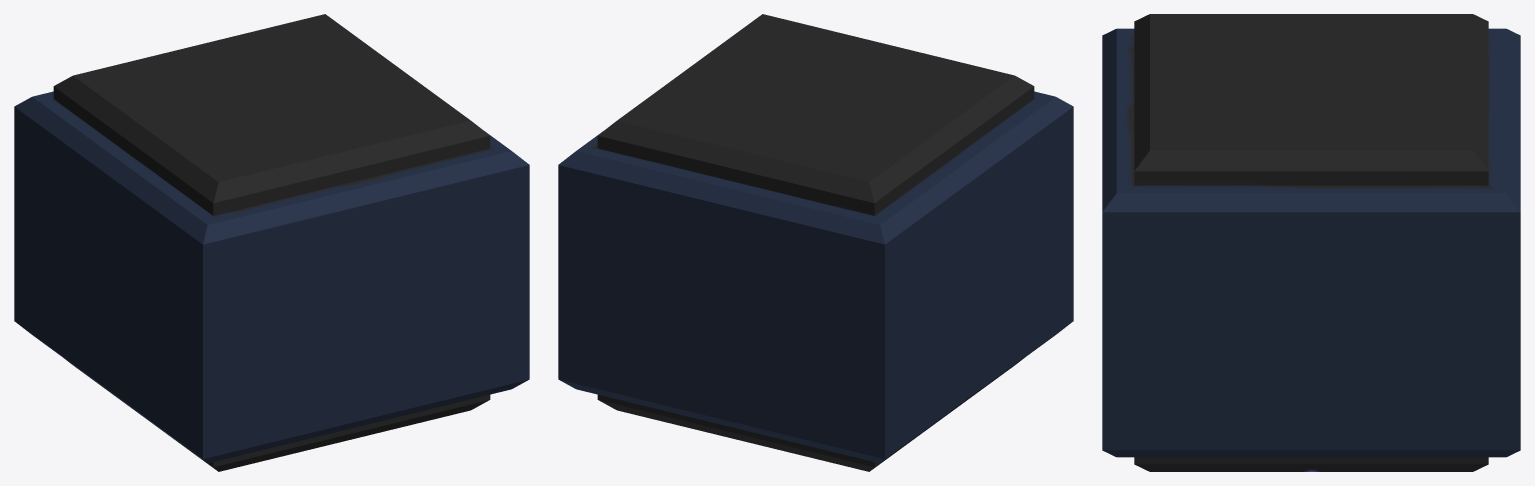
Rendered from Turret_block.fbx.
The picture shows the model from 3 angles, left to right: view 1: azimuth 30°, elevation 25°; view 2: azimuth 150°, elevation 25°; view 3: azimuth 270°, elevation 25°; orthographic projection. The views are drawn at different scales.
Parts seen in each view (by area): view 1: pCube7; view 2: pCube7; view 3: pCube7.
Boxes of the visible parts, x1,y1,x2,y2 form: pCube7: (14,14,529,471); pCube7: (558,14,1073,471); pCube7: (1102,14,1520,471).
Bounding box in the file's own units: 23.6 × 20 × 23.6.
1 material, 1 textured.
